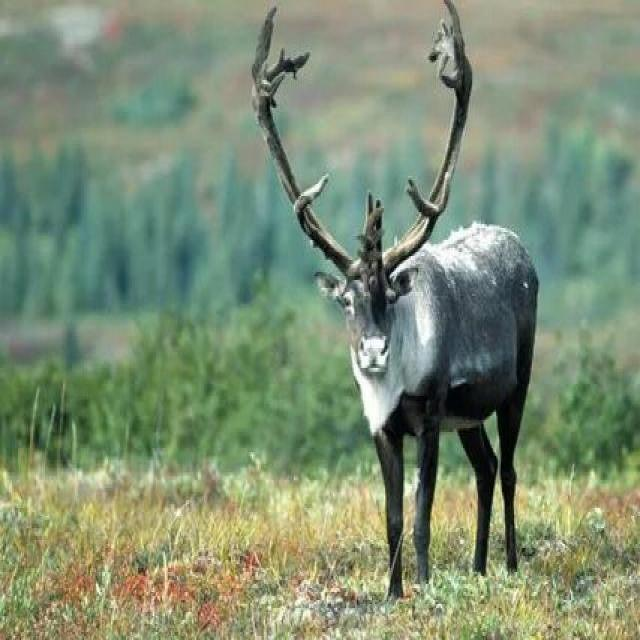deer: (227, 42, 639, 594)
